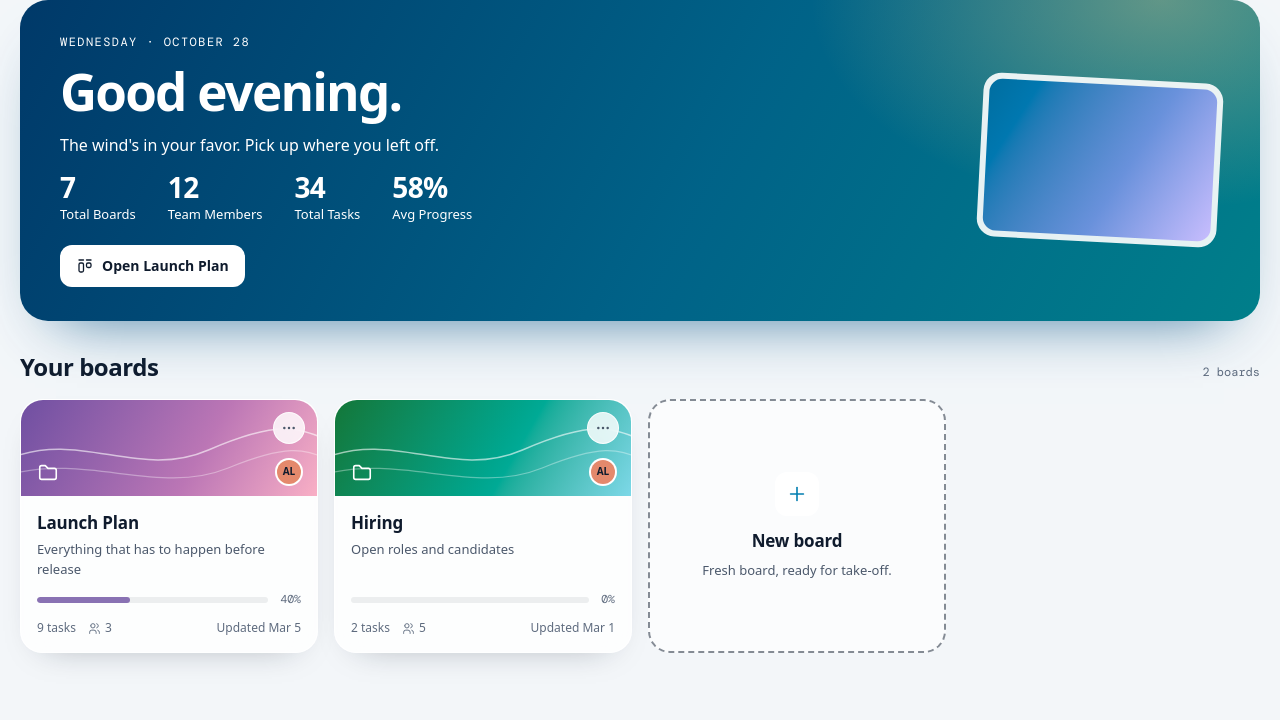
Test case: BoardDashboard per board menu › offers adding a member and deleting the board
Expected: the link "Launch Plan" is shown, [37,511,139,534]
Step 1. Click the button named "Options for Launch Plan" → (289, 428), box [273,412,305,444]
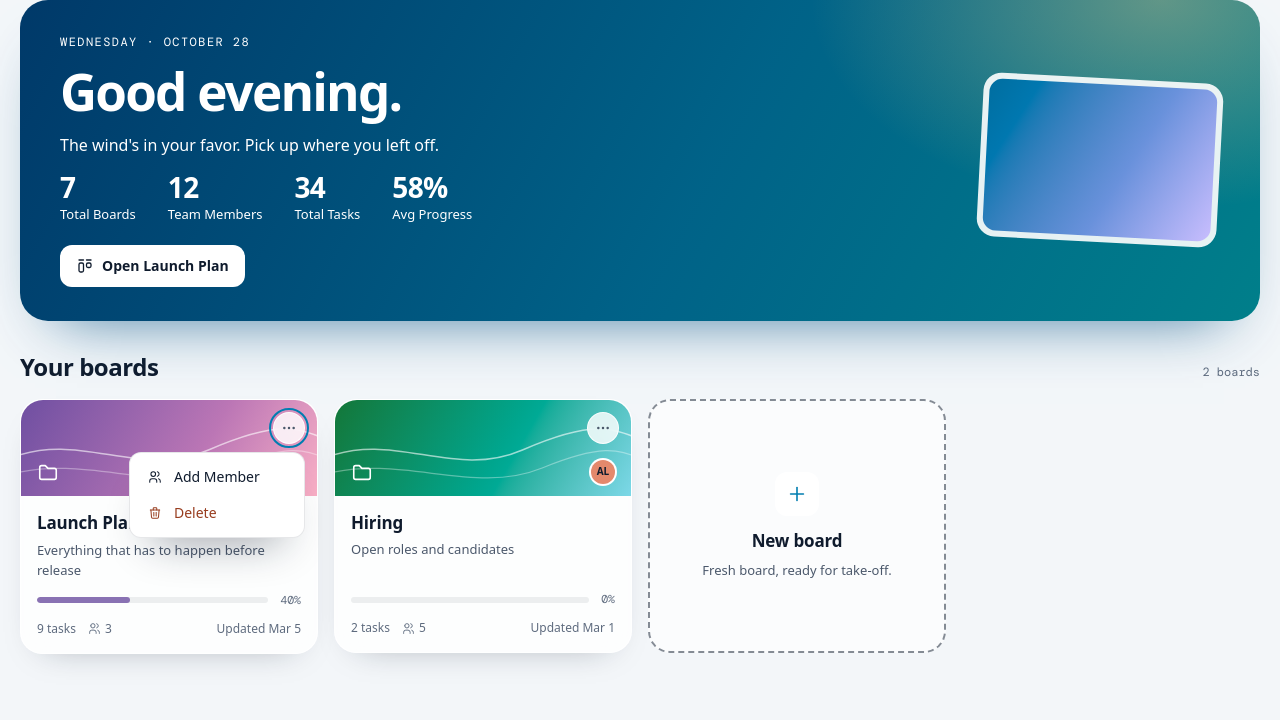
Result: the button "Add Member" is shown at [136,459,298,495]
Result: the button "Delete" is shown at [136,495,298,531]
